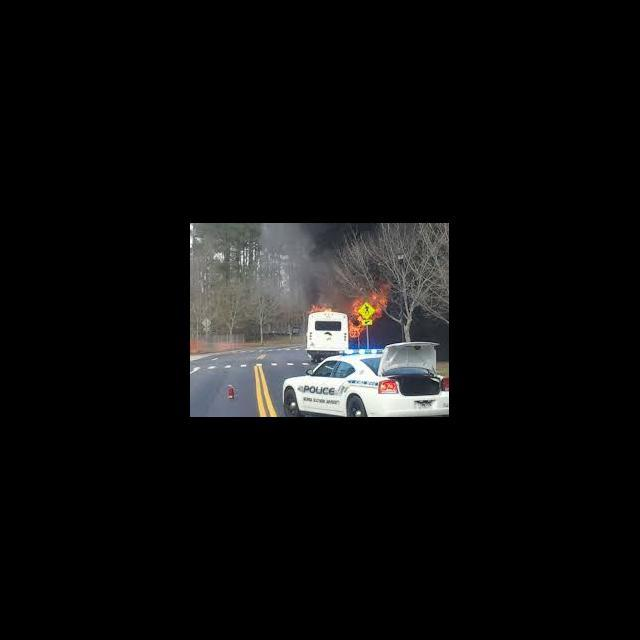Fire: (348, 282, 396, 338), (307, 302, 334, 313)
